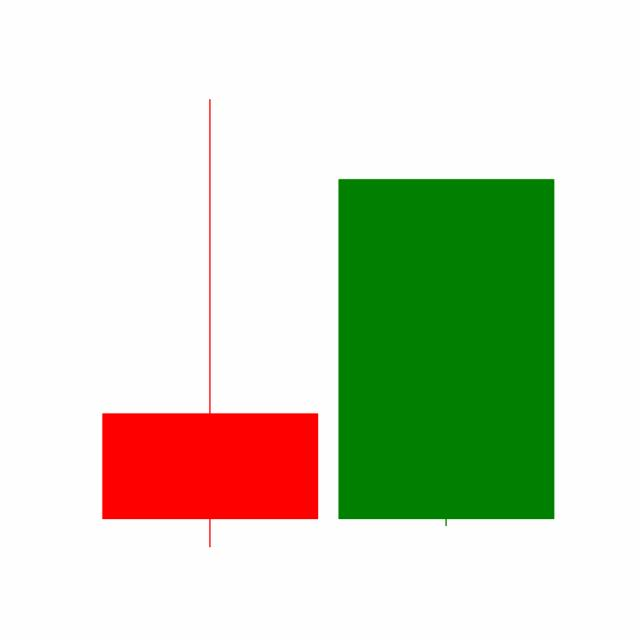Marubozu: (327, 175, 565, 530)
